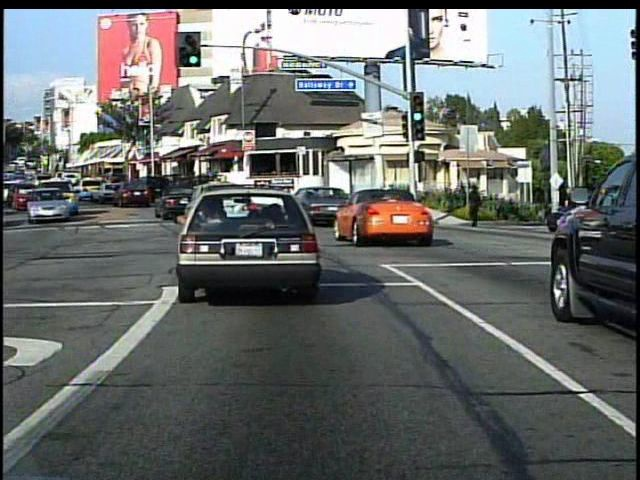person: (554, 183, 577, 244), (463, 182, 485, 230)
